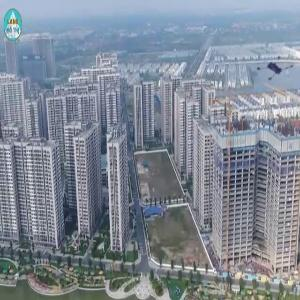drone: (250, 50, 296, 96)
